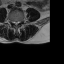CCS_stenosis: (15, 19, 17, 27)
LFS_normal: (19, 19, 21, 24)
LLS_normal: (17, 19, 19, 26)
RFS_normal: (11, 19, 13, 25)
RLS_stenosis: (13, 19, 15, 25)
